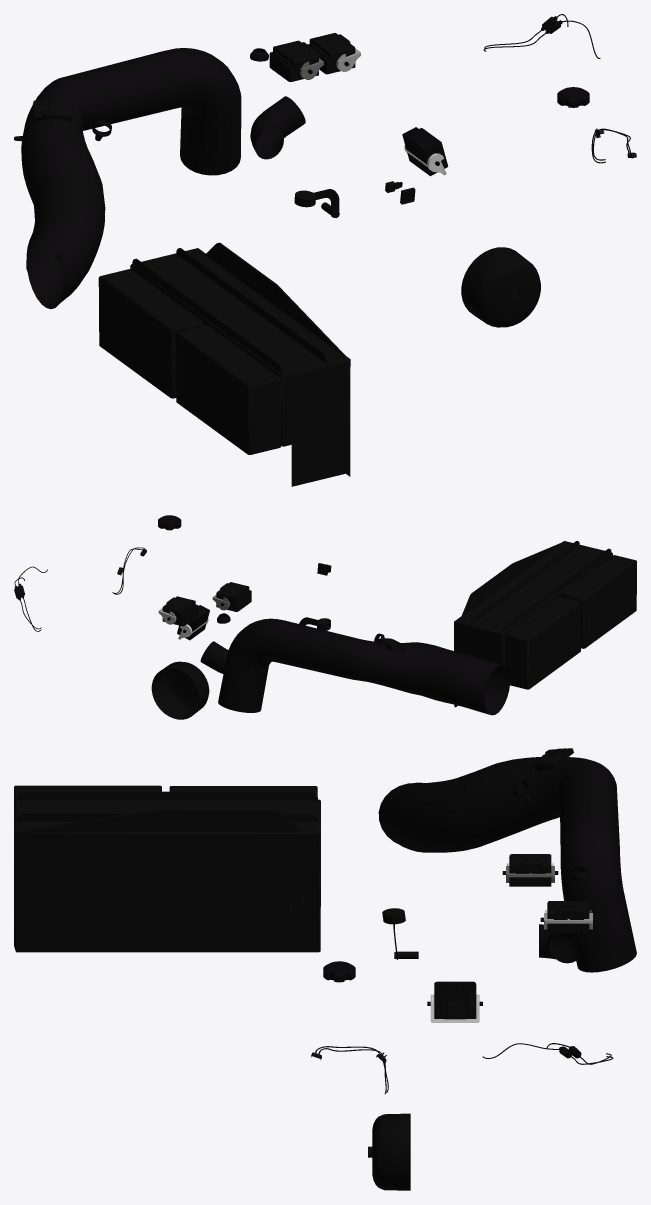
The model's file is engine_part.fbx.
The picture shows the model from 3 angles, top to bottom: view 1: azimuth 30°, elevation 25°; view 2: azimuth 150°, elevation 25°; view 3: azimuth 270°, elevation 25°; orthographic projection. The views are drawn at different scales.
Visible parts, largest first — view 1: engine_bump_plastic4, battery; view 2: engine_bump_plastic4, battery; view 3: engine_bump_plastic4, battery.
Part boxes in pixels (x1,y1,x2,y2): engine_bump_plastic4: [14, 14, 636, 486]; battery: [98, 269, 281, 454]; engine_bump_plastic4: [14, 515, 612, 719]; battery: [505, 555, 636, 689]; engine_bump_plastic4: [14, 748, 636, 1190]; battery: [14, 785, 317, 799].
Bounding box in the file's own units: 116 × 48.08 × 104.
